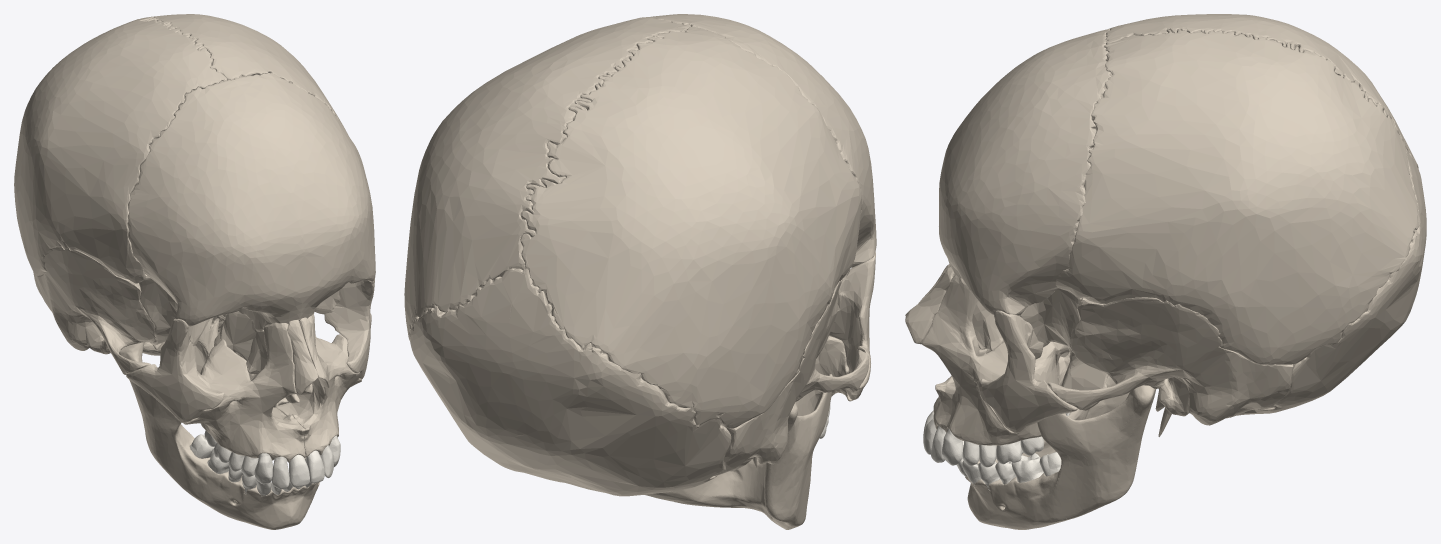
The model's file is class2-before.glb.
3 views of the same model, side by side, from view 1: azimuth 30°, elevation 25°; view 2: azimuth 150°, elevation 25°; view 3: azimuth 270°, elevation 25° (orthographic). The views are drawn at different scales.
Parts seen in each view (by area): view 1: bone, teeth; view 2: bone; view 3: bone, teeth.
Part boxes in pixels (left/top/right/bottom): bone: left=14, top=14, right=375, bottom=529; teeth: left=190, top=430, right=340, bottom=496; bone: left=404, top=14, right=876, bottom=529; bone: left=905, top=14, right=1426, bottom=529; teeth: left=923, top=410, right=1069, bottom=490.
Bounding box in the file's own units: 0.1482 × 0.2089 × 0.2035.
